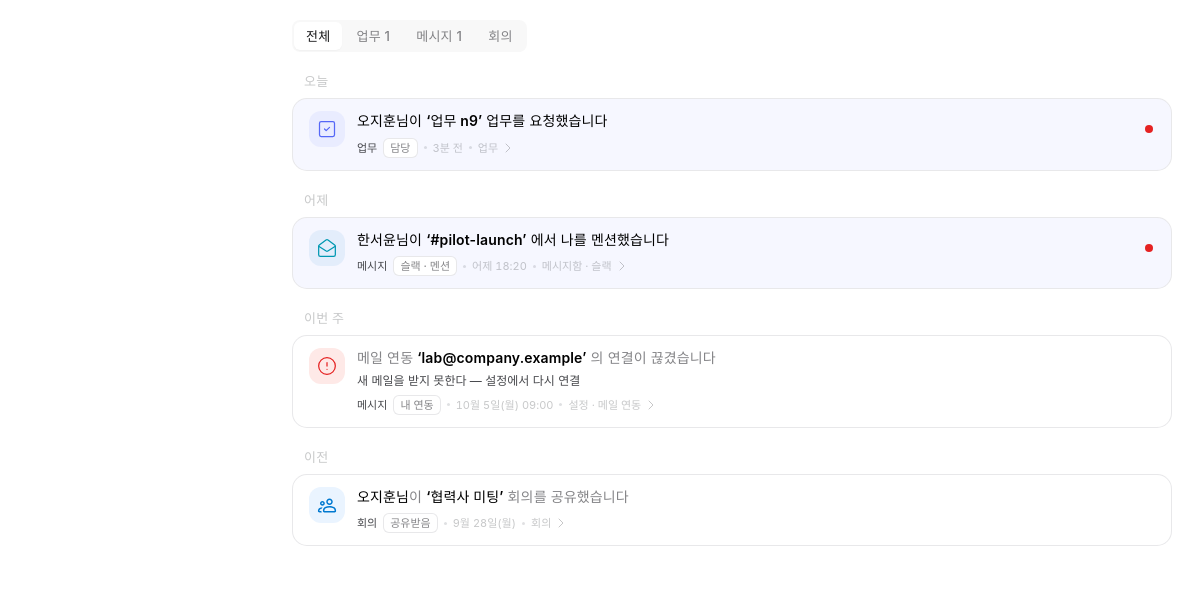
Test case: 알림 화면 — 기본 › 누르면 그 줄이 읽음으로 바뀌고 App 에 넘긴다(읽음 API · 대상 열기는 App)
Expected: the text "업무 n9" is shown, [430, 112, 478, 129]
What coordinates should you click on to do the following:
click the button that starts with "한서윤님"
I would click on:
 (327, 248)
Its box is [293, 218, 1171, 288].
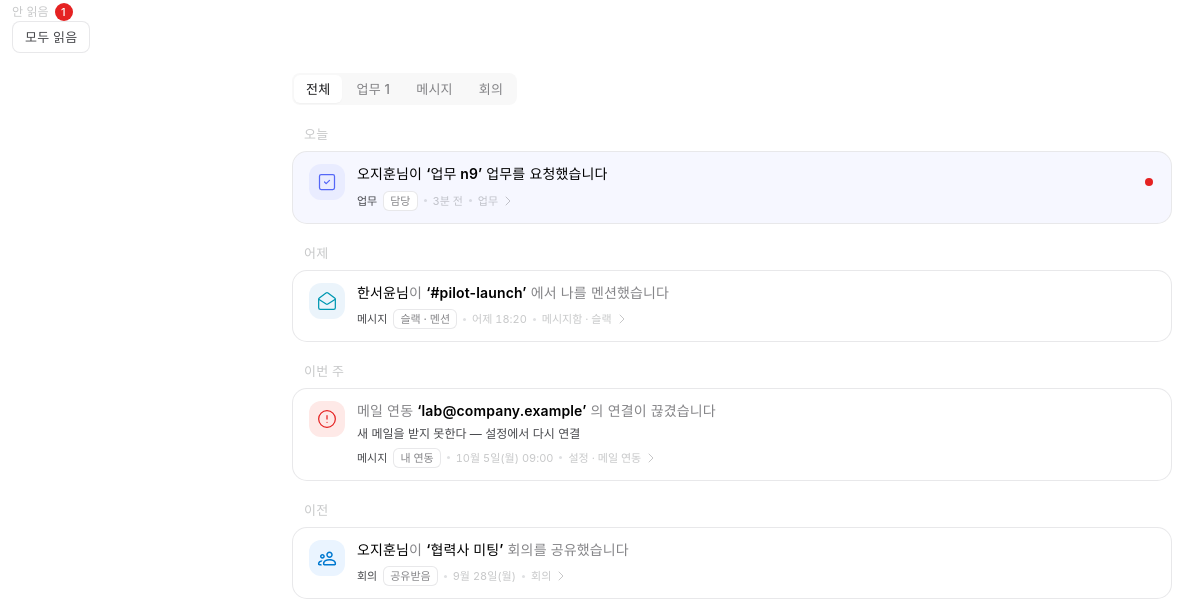
Now the element with test id "title-end" reads "안 읽음 1", box [12, 3, 72, 21]
